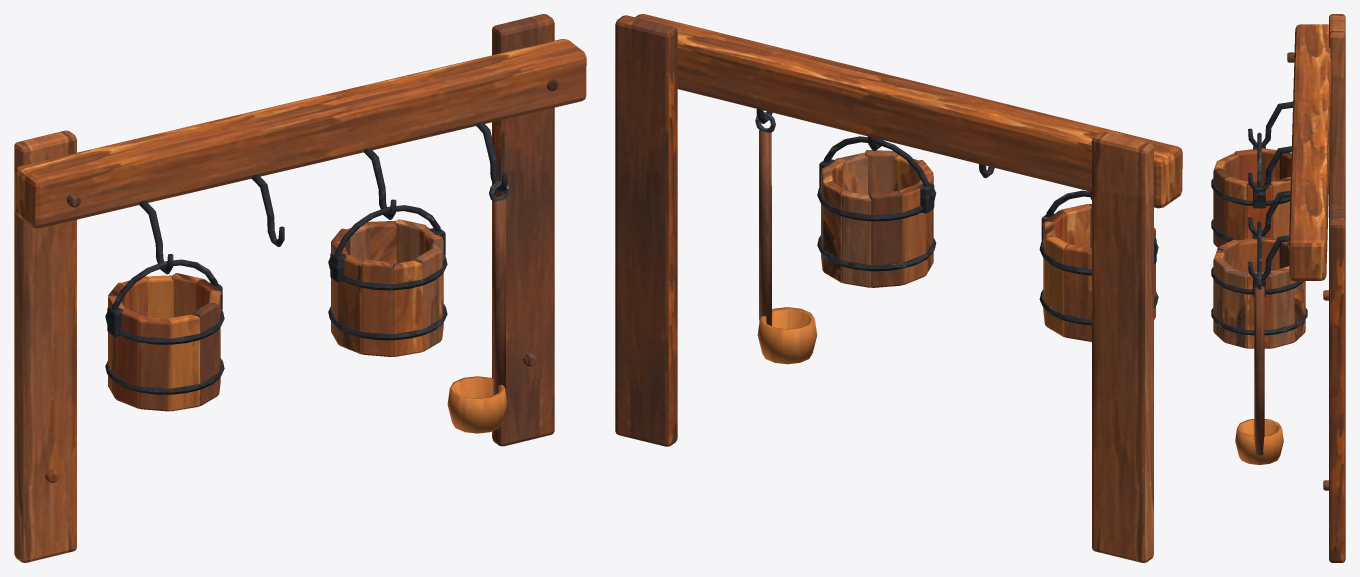
Rendered from mp_bucket_hooks.glb.
3 views of the same model, side by side, from view 1: azimuth 30°, elevation 25°; view 2: azimuth 150°, elevation 25°; view 3: azimuth 270°, elevation 25° (orthographic). The views are drawn at different scales.
Parts seen in each view (by area): view 1: model; view 2: model; view 3: model.
Part boxes in pixels (x1,y1,x2,y2): model: (14,14,586,562); model: (615,14,1182,562); model: (1211,14,1345,562).
Bounding box in the file's own units: 1.38 × 1 × 0.3587.
Materials: 13 (13 with a texture image).
